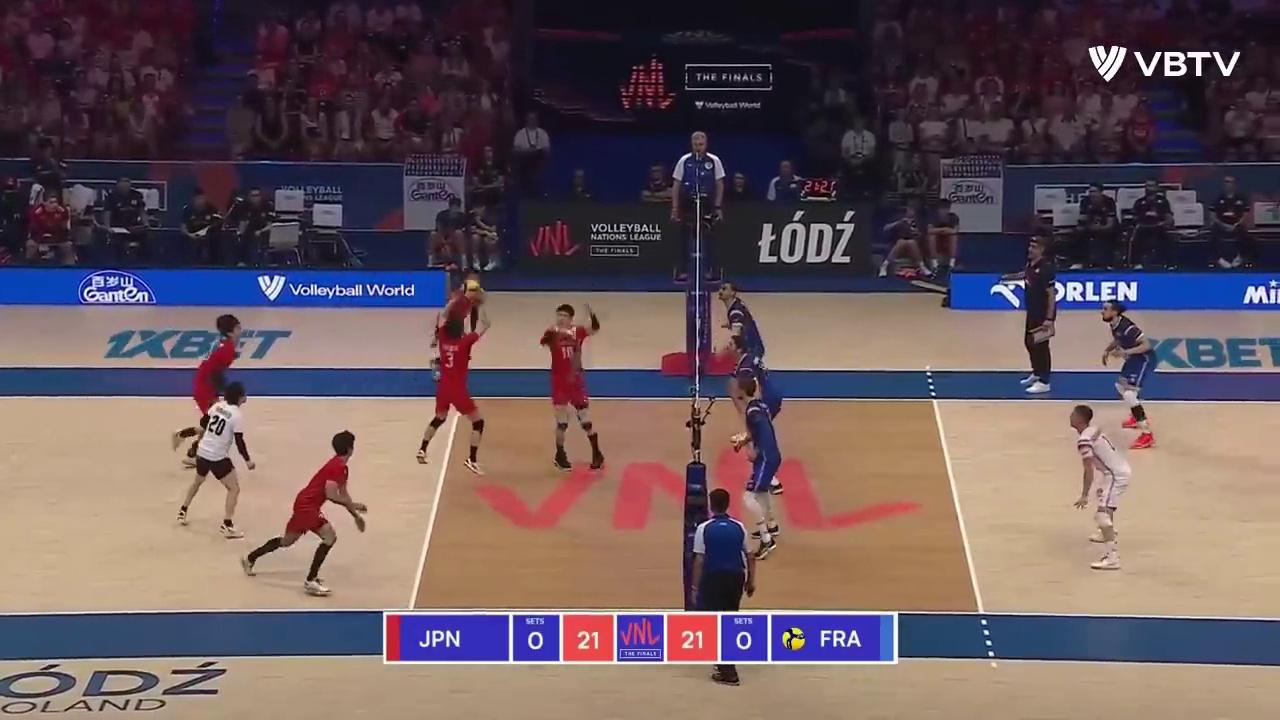ball: (461, 280, 482, 303)
